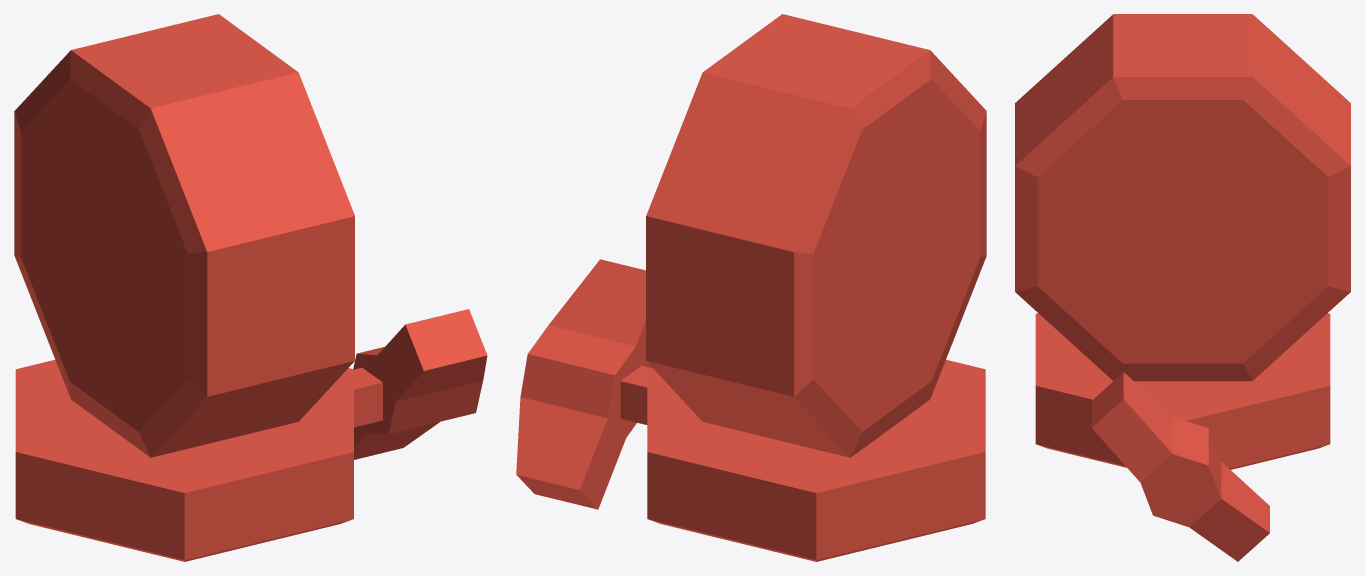
Rendered from SM_Tripod_Camera_Pan.fbx.
3 renders of one model, left to right at view 1: azimuth 30°, elevation 25°; view 2: azimuth 150°, elevation 25°; view 3: azimuth 270°, elevation 25°, orthographic. The views are drawn at different scales.
Parts seen in each view (by area): view 1: SM_Tripod_Camera_Pan; view 2: SM_Tripod_Camera_Pan; view 3: SM_Tripod_Camera_Pan.
Boxes of the visible parts, x1,y1,x2,y2 form: SM_Tripod_Camera_Pan: [14, 14, 487, 561]; SM_Tripod_Camera_Pan: [516, 14, 986, 561]; SM_Tripod_Camera_Pan: [1015, 14, 1350, 561].
Size of the model in its own units: 8.67 by 11.51 by 11.68.
